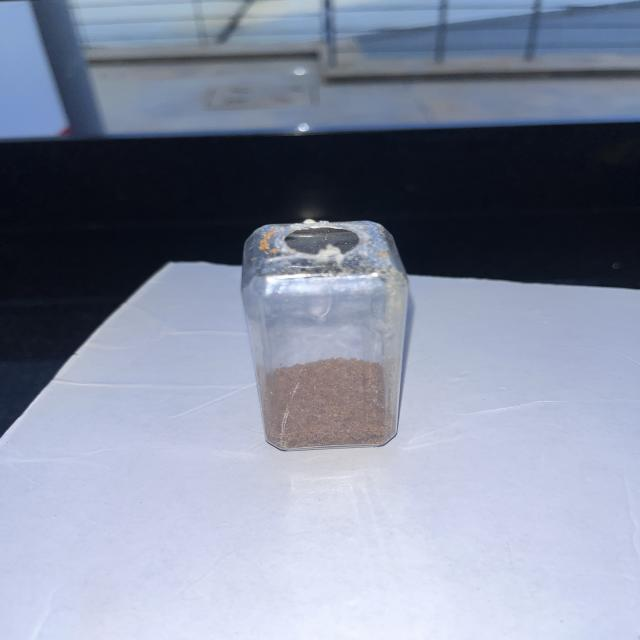maggie_open: (260, 361, 392, 450)
